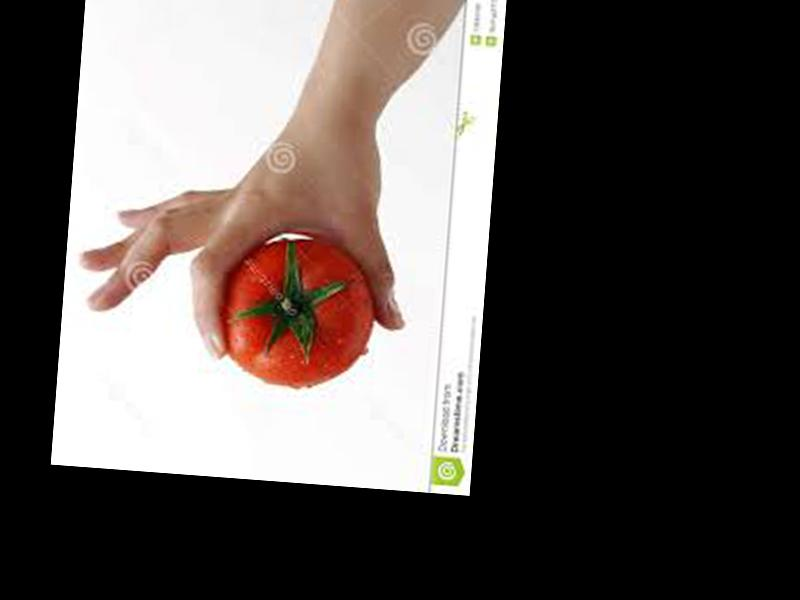Tomato: (215, 232, 379, 393)
